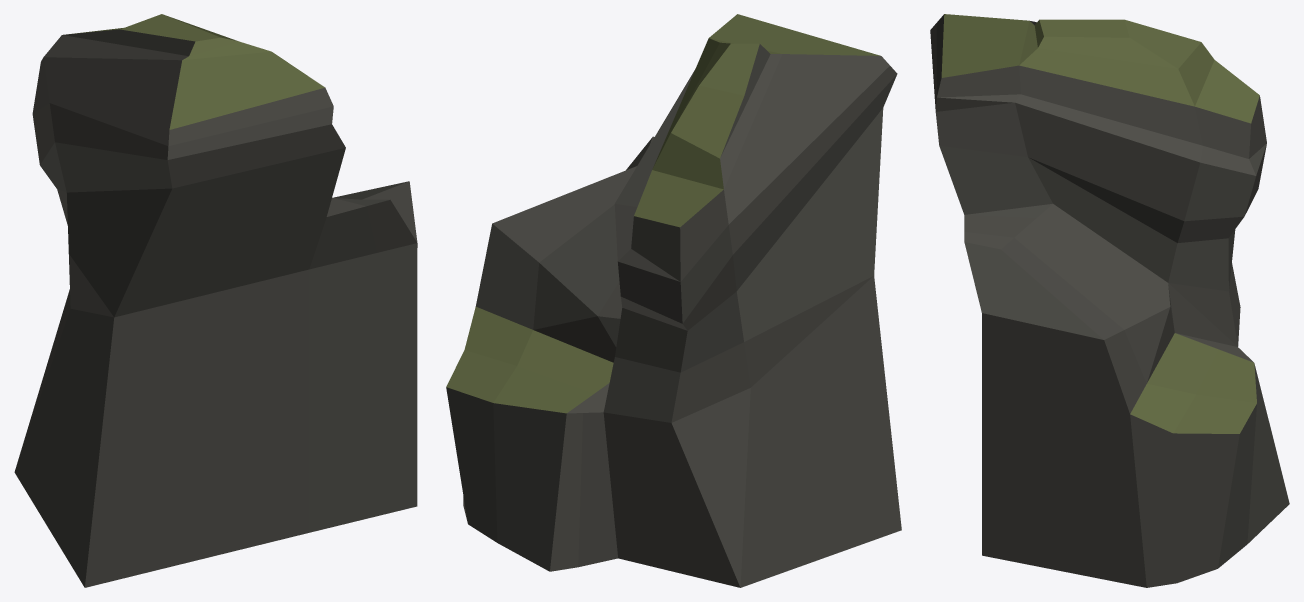
The model's file is Cliff_Big_001.fbx.
The picture shows the model from 3 angles, left to right: view 1: azimuth 30°, elevation 25°; view 2: azimuth 150°, elevation 25°; view 3: azimuth 270°, elevation 25°; orthographic projection. The views are drawn at different scales.
Parts seen in each view (by area): view 1: Rock_1.001; view 2: Rock_1.001; view 3: Rock_1.001.
Boxes of the visible parts, left/top/right/bottom form: Rock_1.001: left=14, top=14, right=417, bottom=587; Rock_1.001: left=446, top=14, right=901, bottom=587; Rock_1.001: left=930, top=14, right=1289, bottom=587.
Bounding box in the file's own units: 1556 × 1938 × 1371.
